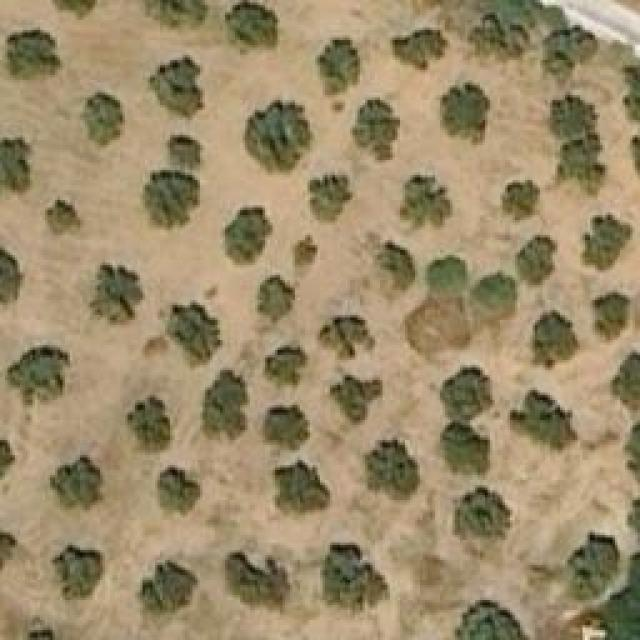Tree: (322, 543, 390, 616), (245, 100, 313, 170), (507, 388, 575, 451), (8, 343, 71, 406), (220, 198, 275, 268), (138, 168, 200, 229), (147, 55, 205, 120), (395, 173, 453, 238), (568, 530, 621, 600), (365, 438, 423, 501), (433, 357, 494, 415), (138, 560, 198, 618), (90, 263, 145, 326), (228, 553, 291, 608), (468, 10, 528, 65), (440, 83, 490, 148), (203, 370, 248, 440), (330, 375, 383, 433), (440, 420, 495, 475), (532, 308, 580, 371), (455, 600, 528, 640), (275, 460, 330, 513), (455, 488, 510, 541), (540, 23, 593, 78), (53, 545, 103, 603), (352, 100, 400, 160), (50, 455, 103, 508), (172, 302, 220, 360), (8, 28, 63, 78), (315, 38, 360, 98), (317, 315, 375, 360), (558, 140, 609, 191), (225, 0, 278, 48), (128, 395, 171, 453), (80, 93, 125, 148), (585, 215, 630, 270), (548, 95, 599, 140), (158, 468, 203, 518), (262, 405, 310, 450), (518, 235, 558, 288), (253, 275, 296, 323), (308, 178, 353, 223), (393, 30, 446, 68), (593, 293, 628, 343), (0, 135, 30, 193), (383, 242, 418, 290), (502, 180, 540, 223), (612, 352, 640, 410), (45, 198, 85, 238), (428, 255, 468, 295), (265, 347, 305, 385), (473, 273, 516, 308), (165, 132, 202, 172), (140, 0, 207, 22), (0, 245, 22, 302), (622, 422, 640, 490), (40, 0, 103, 18), (622, 64, 640, 125), (0, 425, 15, 495), (0, 525, 18, 580), (290, 235, 318, 268)
